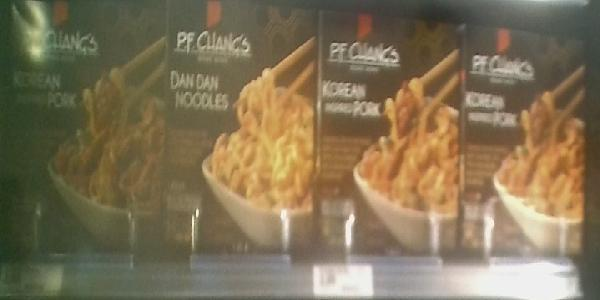pizza1: (1, 1, 164, 252), (162, 1, 317, 257), (322, 4, 460, 258), (462, 23, 585, 258)
